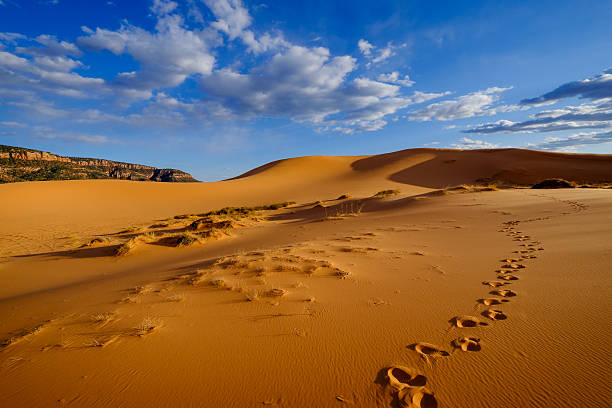animal_foot_print: (386, 366, 437, 407), (386, 366, 425, 390), (398, 387, 437, 407), (407, 342, 449, 357), (449, 315, 487, 327), (451, 336, 480, 351), (482, 309, 506, 319), (477, 298, 508, 305), (489, 289, 516, 296), (502, 262, 524, 269), (482, 281, 507, 287), (497, 273, 518, 280)
